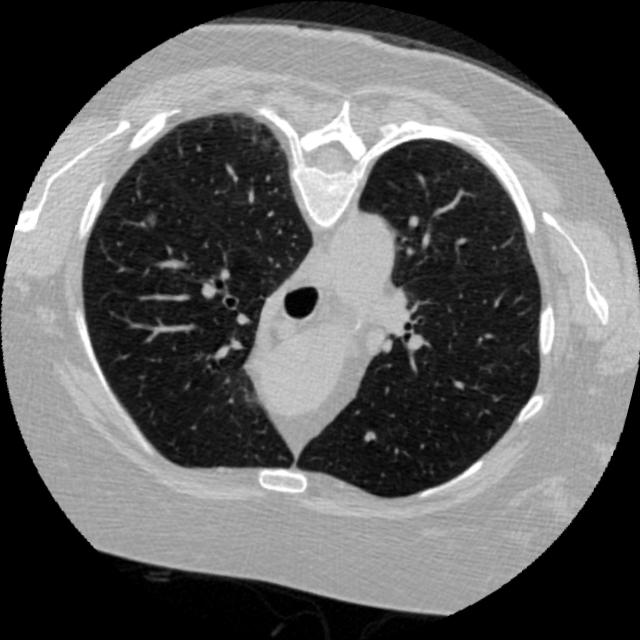nodule: (131, 202, 165, 236)
